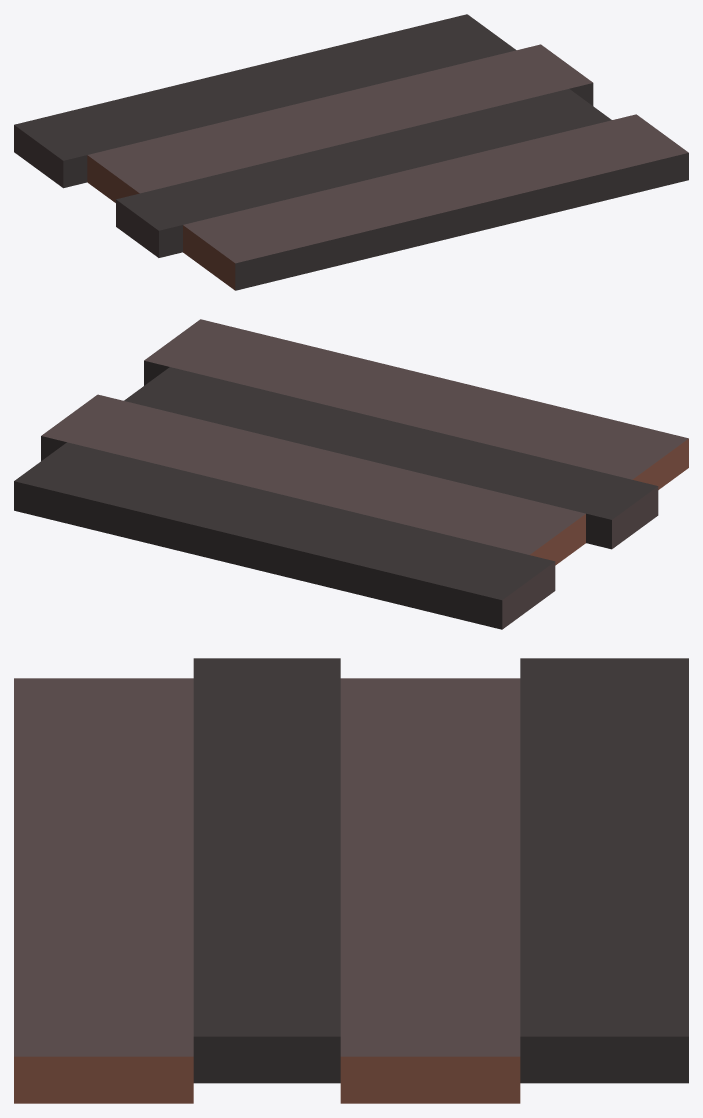
The model's file is TB_D_Prop_WoodenPad_B.FBX.
3 renders of one model, top to bottom at view 1: azimuth 30°, elevation 25°; view 2: azimuth 150°, elevation 25°; view 3: azimuth 270°, elevation 25°, orthographic. The views are drawn at different scales.
Parts seen in each view (by area): view 1: TB_D_Prop_WoodenPad_B; view 2: TB_D_Prop_WoodenPad_B; view 3: TB_D_Prop_WoodenPad_B.
Boxes of the visible parts, bbox=[...] form: TB_D_Prop_WoodenPad_B: bbox=[14, 14, 688, 290]; TB_D_Prop_WoodenPad_B: bbox=[14, 319, 688, 629]; TB_D_Prop_WoodenPad_B: bbox=[14, 658, 688, 1103].
Bounding box in the file's own units: 2.2 × 0.1207 × 1.58.
